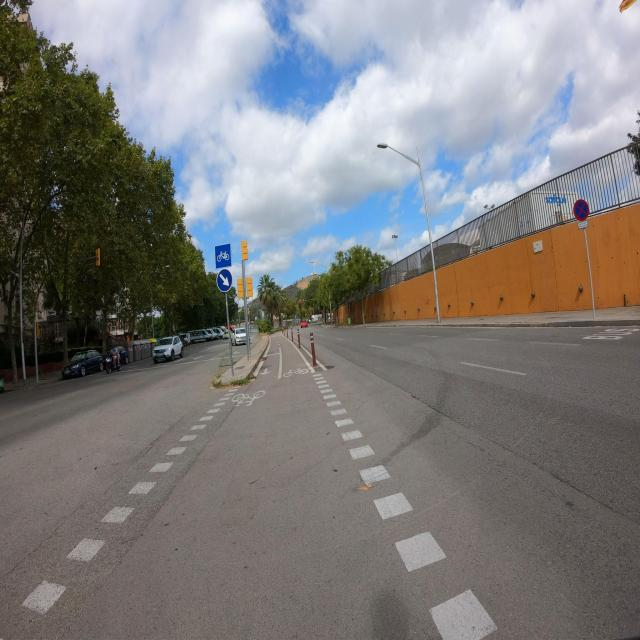bike: (104, 347, 122, 372)
car: (62, 349, 104, 379), (152, 336, 183, 364), (231, 326, 249, 346), (191, 329, 207, 343), (178, 332, 190, 346), (204, 328, 215, 341), (300, 320, 309, 328)
